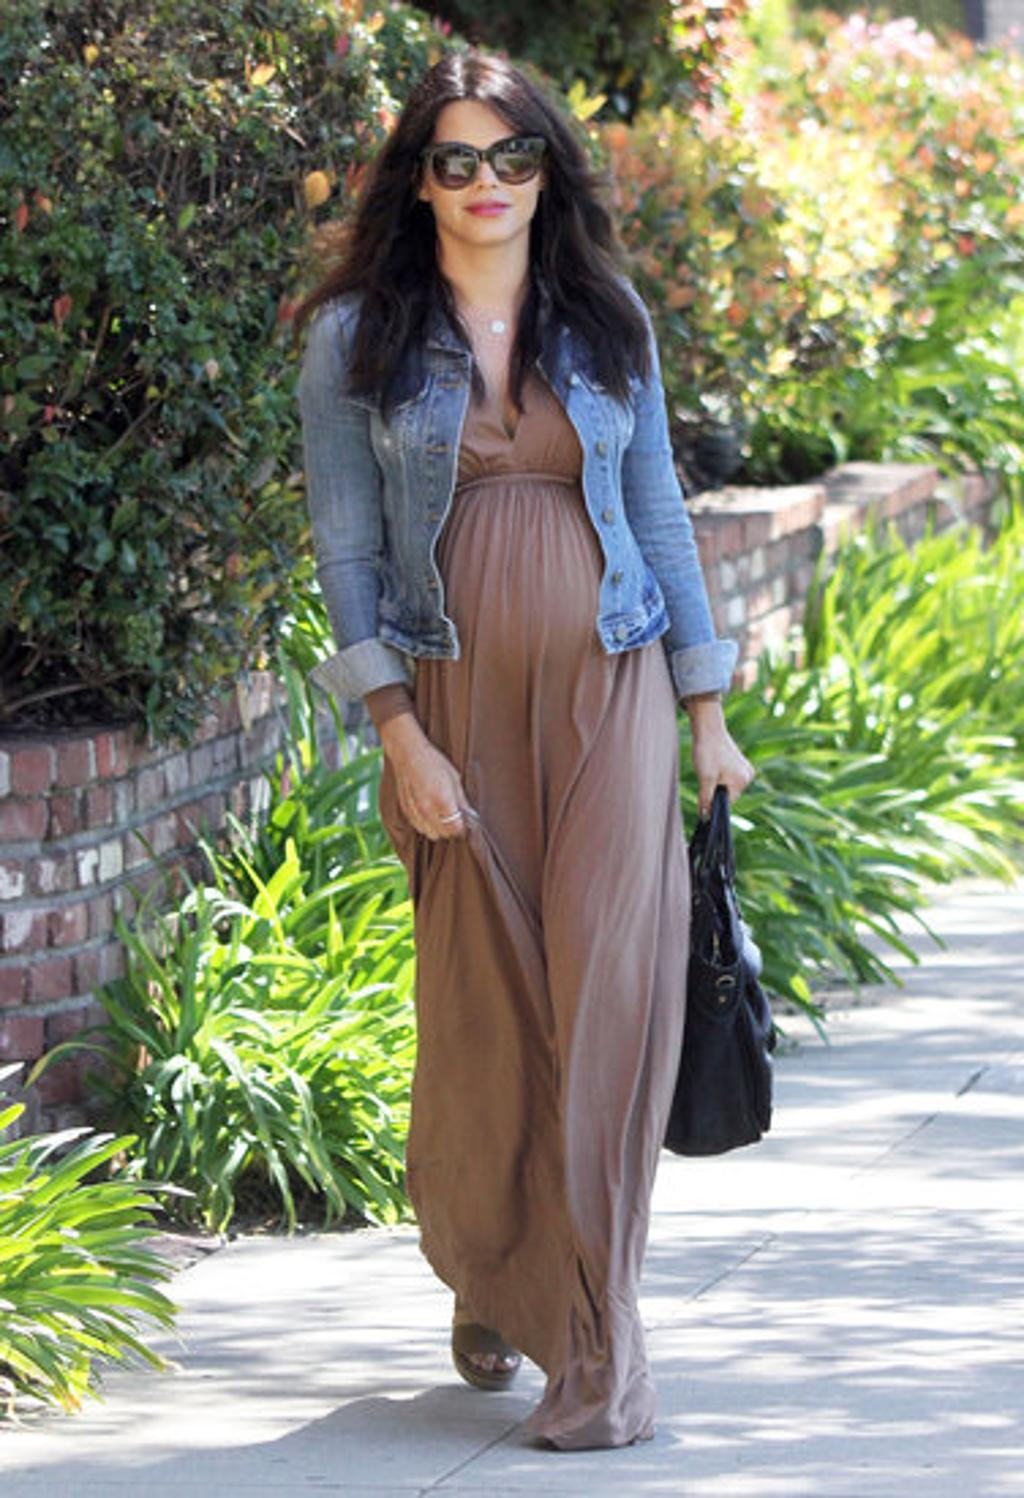face: (430, 94, 538, 246)
